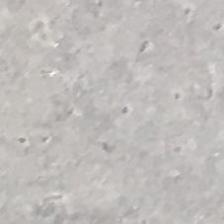Non_Crack: (12, 0, 210, 224)
